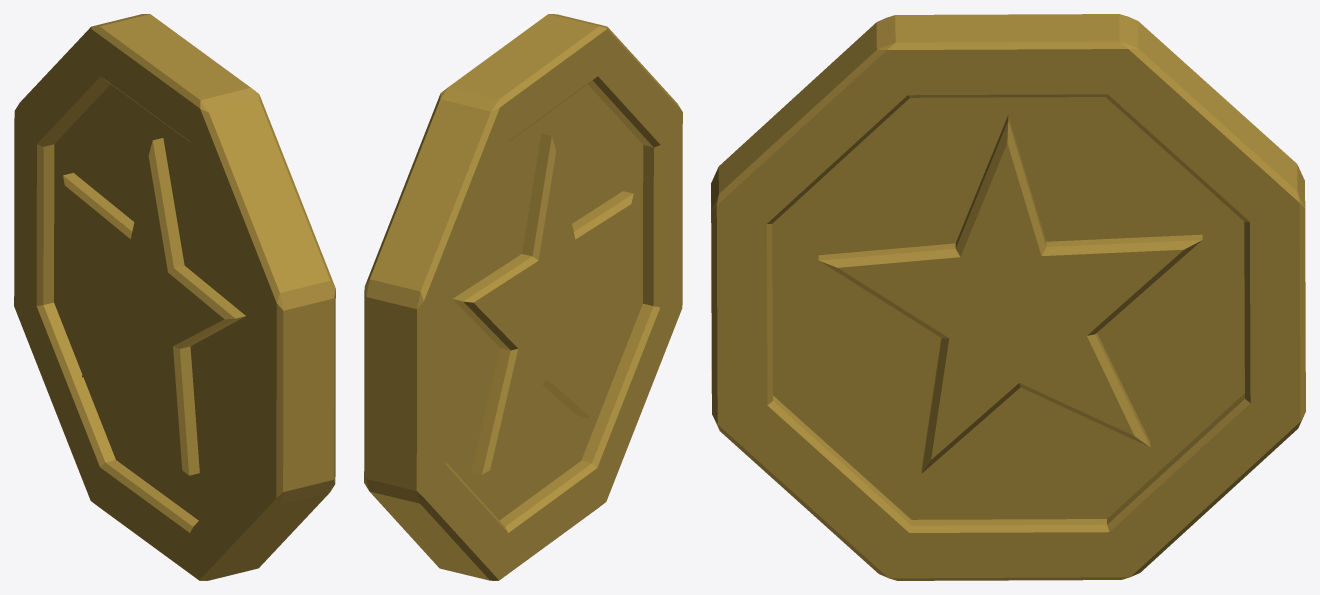
File: coin_effect.fbx
3 views of the same model, side by side, from view 1: azimuth 30°, elevation 25°; view 2: azimuth 150°, elevation 25°; view 3: azimuth 270°, elevation 25° (orthographic). The views are drawn at different scales.
Visible parts, largest first — view 1: Coin_effect; view 2: Coin_effect; view 3: Coin_effect.
Boxes of the visible parts, <box> form: Coin_effect: <box>14,14,335,580</box>; Coin_effect: <box>364,14,682,580</box>; Coin_effect: <box>711,14,1305,580</box>.
Size of the model in its own units: 0.2023 by 1.53 by 1.53.
